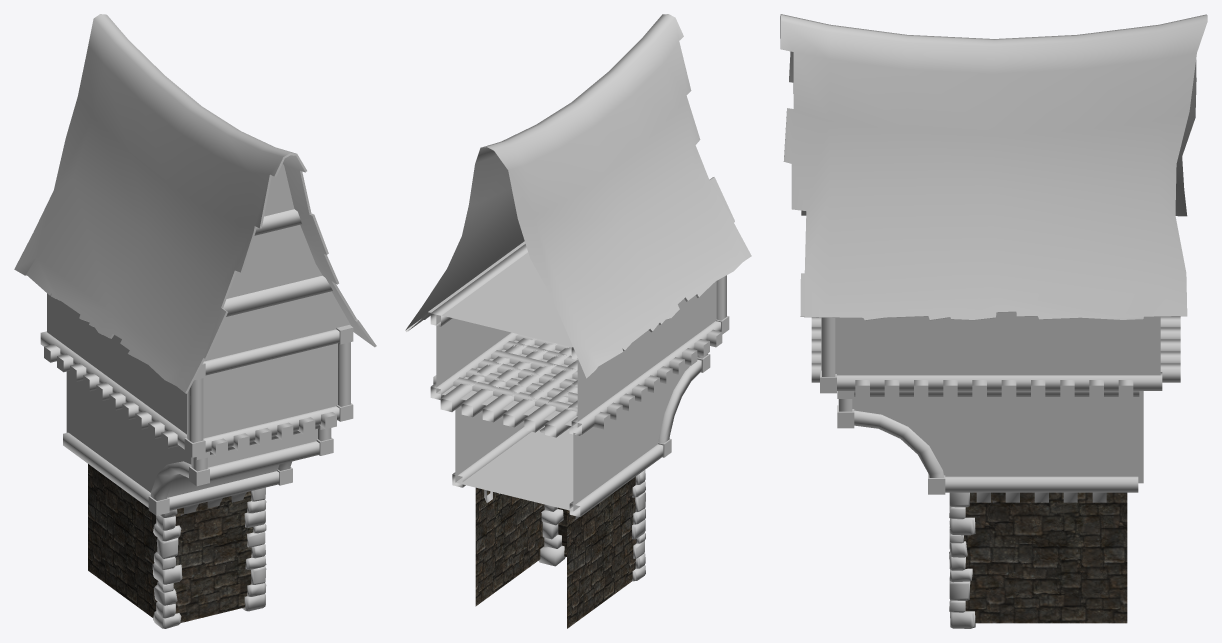
The model's file is build3_half.fbx.
3 views of the same model, side by side, from view 1: azimuth 30°, elevation 25°; view 2: azimuth 150°, elevation 25°; view 3: azimuth 270°, elevation 25° (orthographic). The views are drawn at different scales.
Parts seen in each view (by area): view 1: polySurface2583; view 2: polySurface2583; view 3: polySurface2583.
Boxes of the visible parts, x1,y1,x2,y2 form: polySurface2583: (14, 14, 376, 628); polySurface2583: (405, 14, 751, 628); polySurface2583: (780, 14, 1207, 628).
Bounding box in the file's own units: 7.43 × 19.11 × 12.64.
